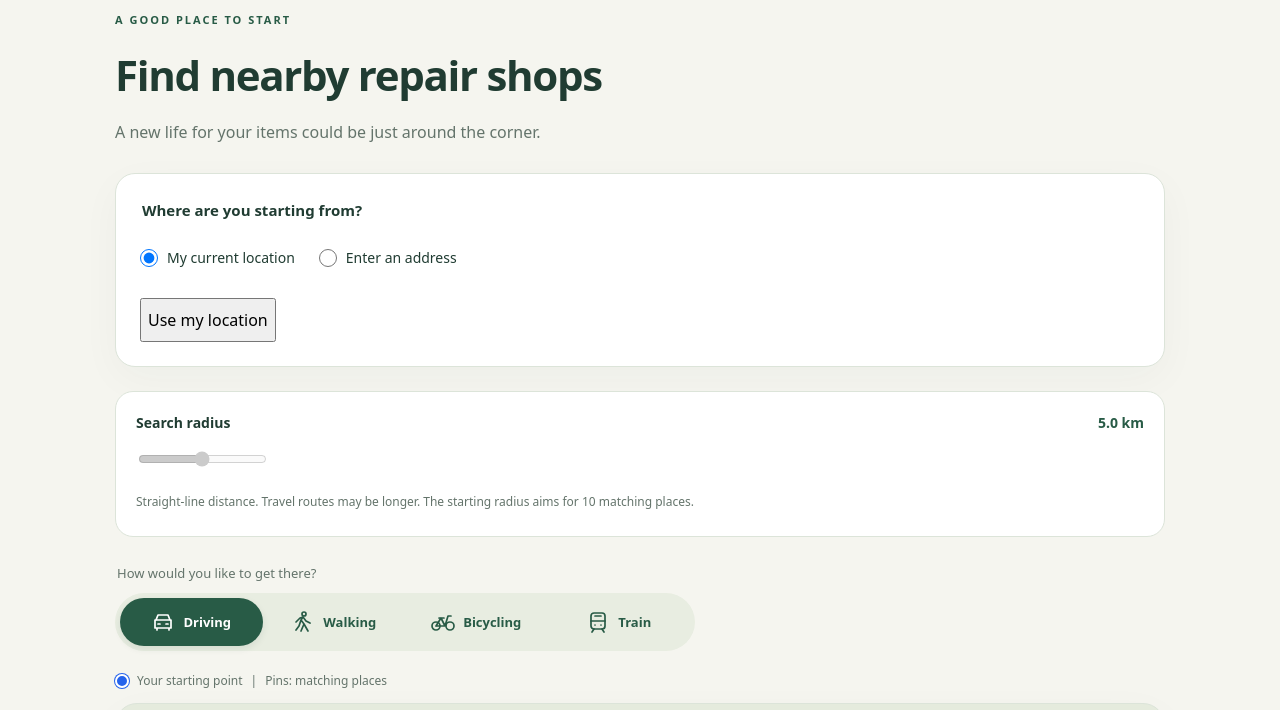
Test: late device lookup cannot overwrite an address search
The image size is (1280, 710).
Click the button "Use my location" at (208, 320), box [140,298,276,342]
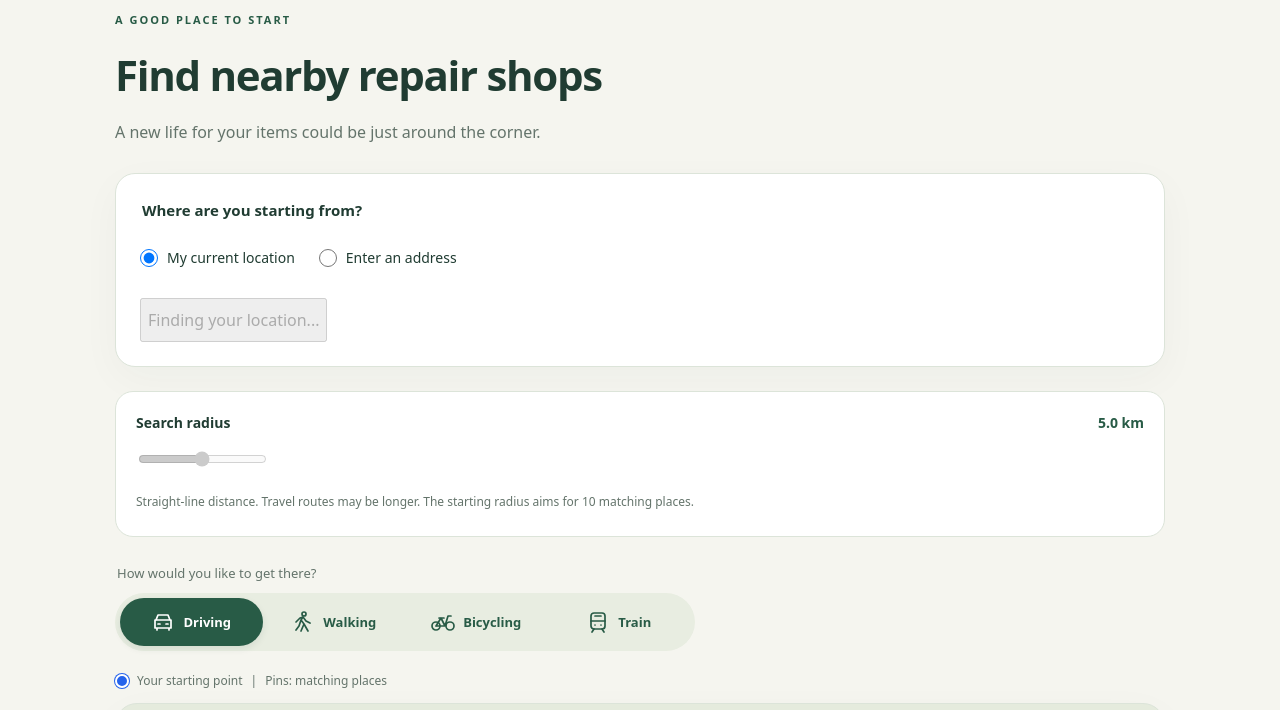
Click the radio button labelled "Enter an address" at (328, 258), box [319,236,337,280]
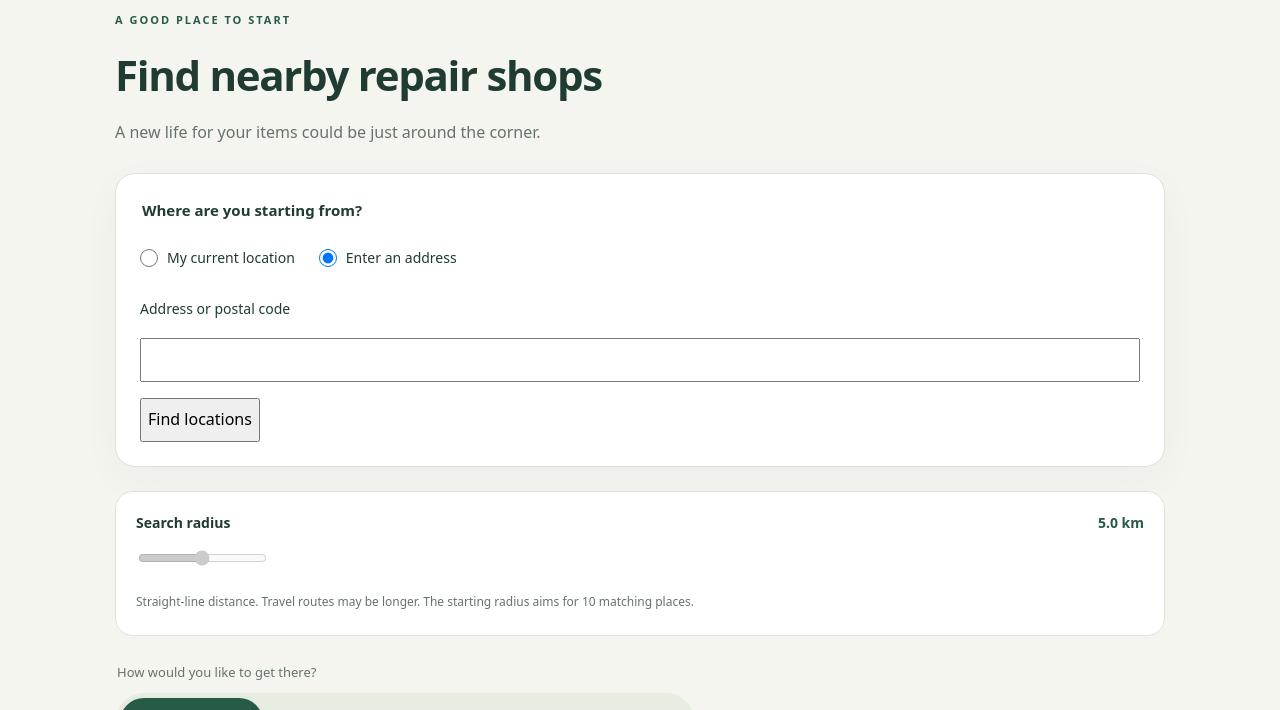
Type "New address" into the field labelled "Address or postal code" at (640, 360), box [140,338,1140,382]
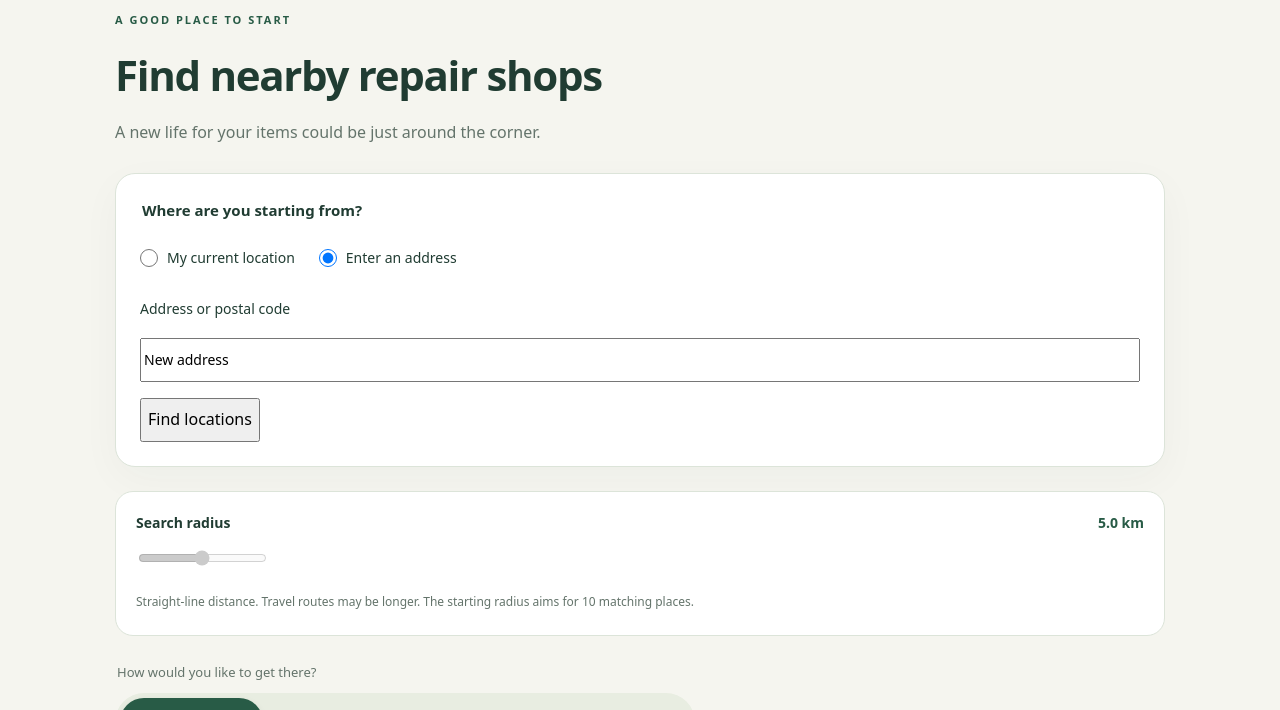
Click the button "Find locations" at (200, 420), box [140,398,260,442]
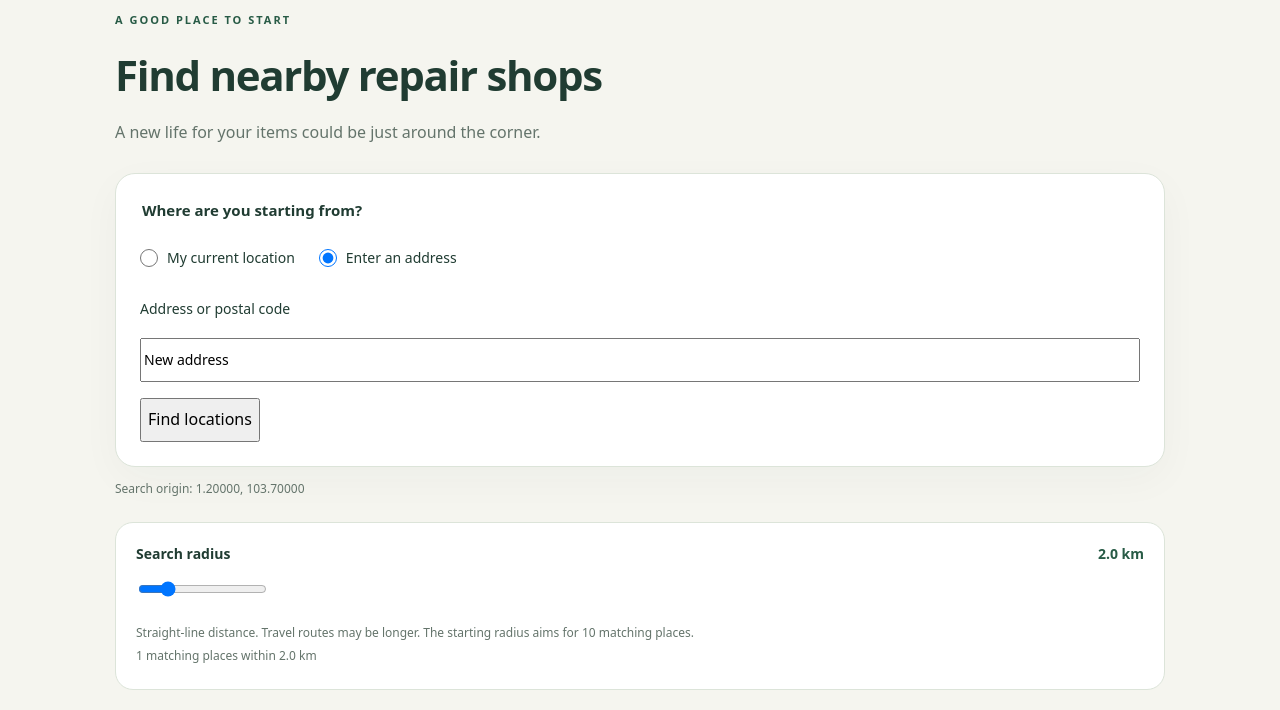
Now the text "Search origin: 1.20000, 103.70000" is shown, box [115,480,304,497]
